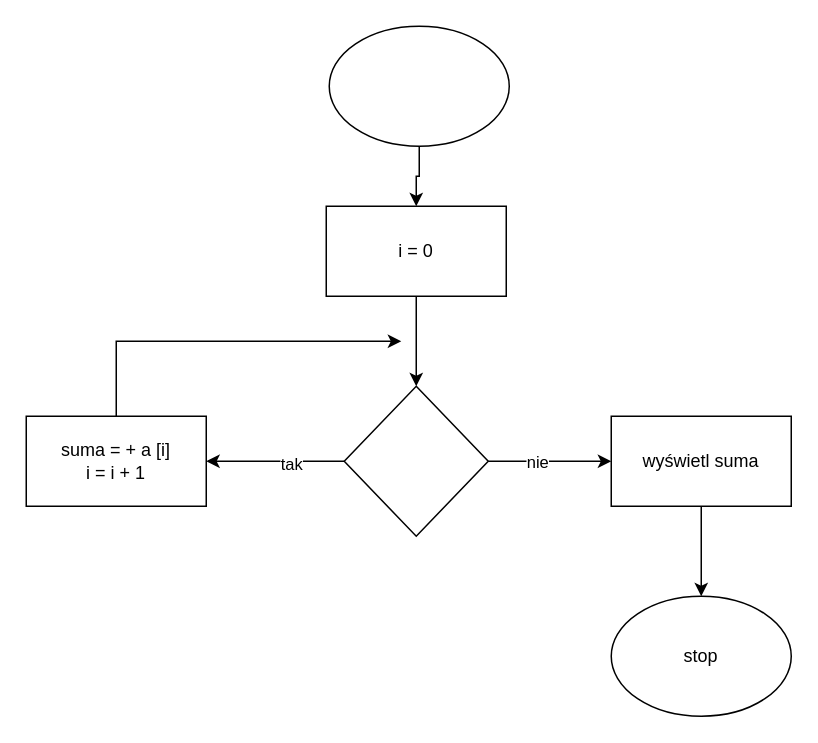
This 818x743 diagram has some shape labels left out. Each missing label, with the centre of its shape:
i < a.dł: point 415,460
start: point 418,85
